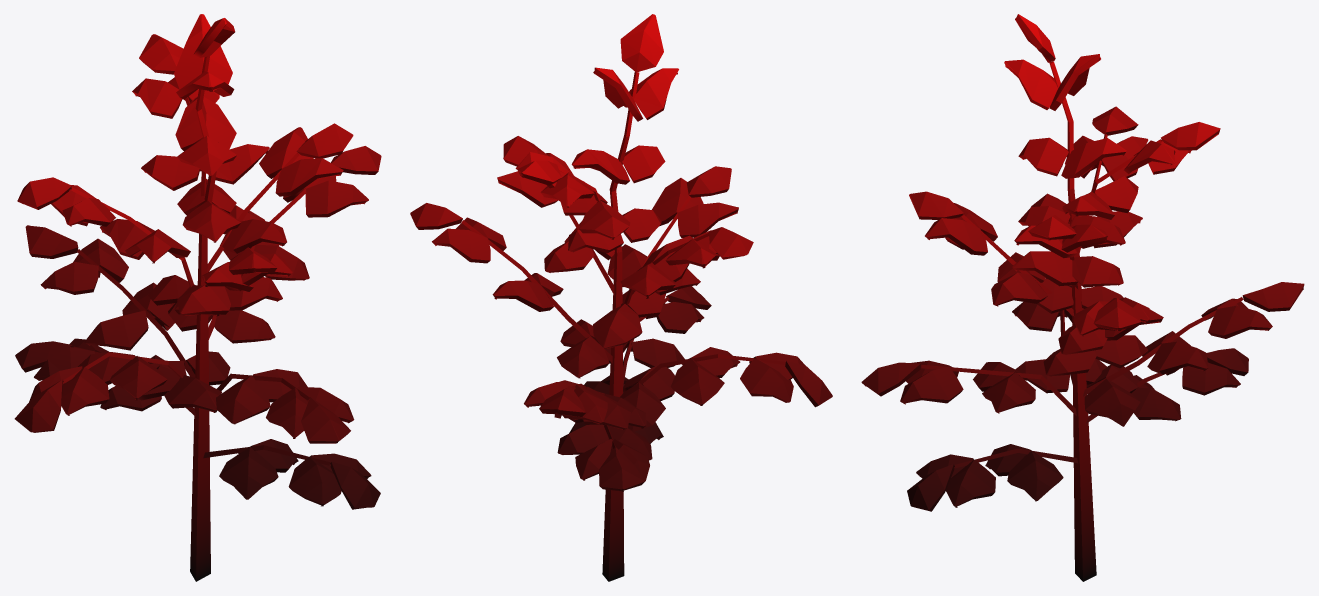
File: TreeWalnutSmall05.fbx
The picture shows the model from 3 angles, left to right: view 1: azimuth 30°, elevation 25°; view 2: azimuth 150°, elevation 25°; view 3: azimuth 270°, elevation 25°; orthographic projection. The views are drawn at different scales.
Visible parts, largest first — view 1: TreeWalnutSmall05_LOD0; view 2: TreeWalnutSmall05_LOD0; view 3: TreeWalnutSmall05_LOD0.
Boxes of the visible parts, x1,y1,x2,y2 form: TreeWalnutSmall05_LOD0: (14, 14, 381, 581); TreeWalnutSmall05_LOD0: (410, 14, 832, 581); TreeWalnutSmall05_LOD0: (861, 14, 1304, 581).
Size of what is drawn, in the model's own units: 135 by 187 by 134.
